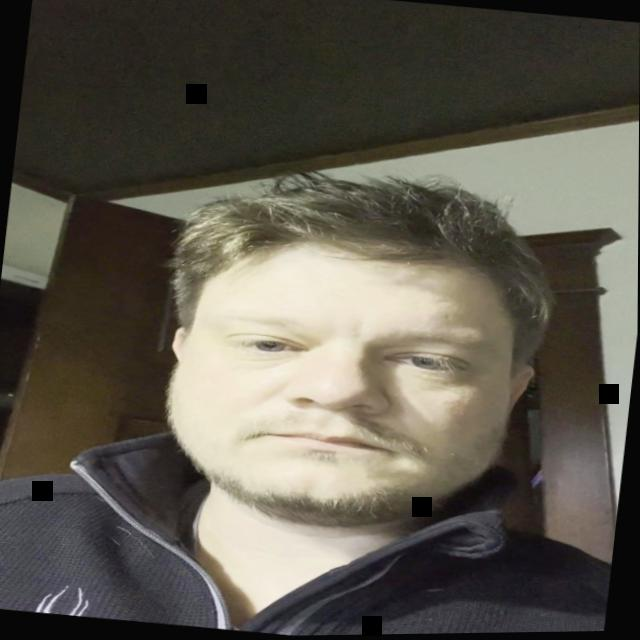NO-Mask: (131, 170, 551, 565)
